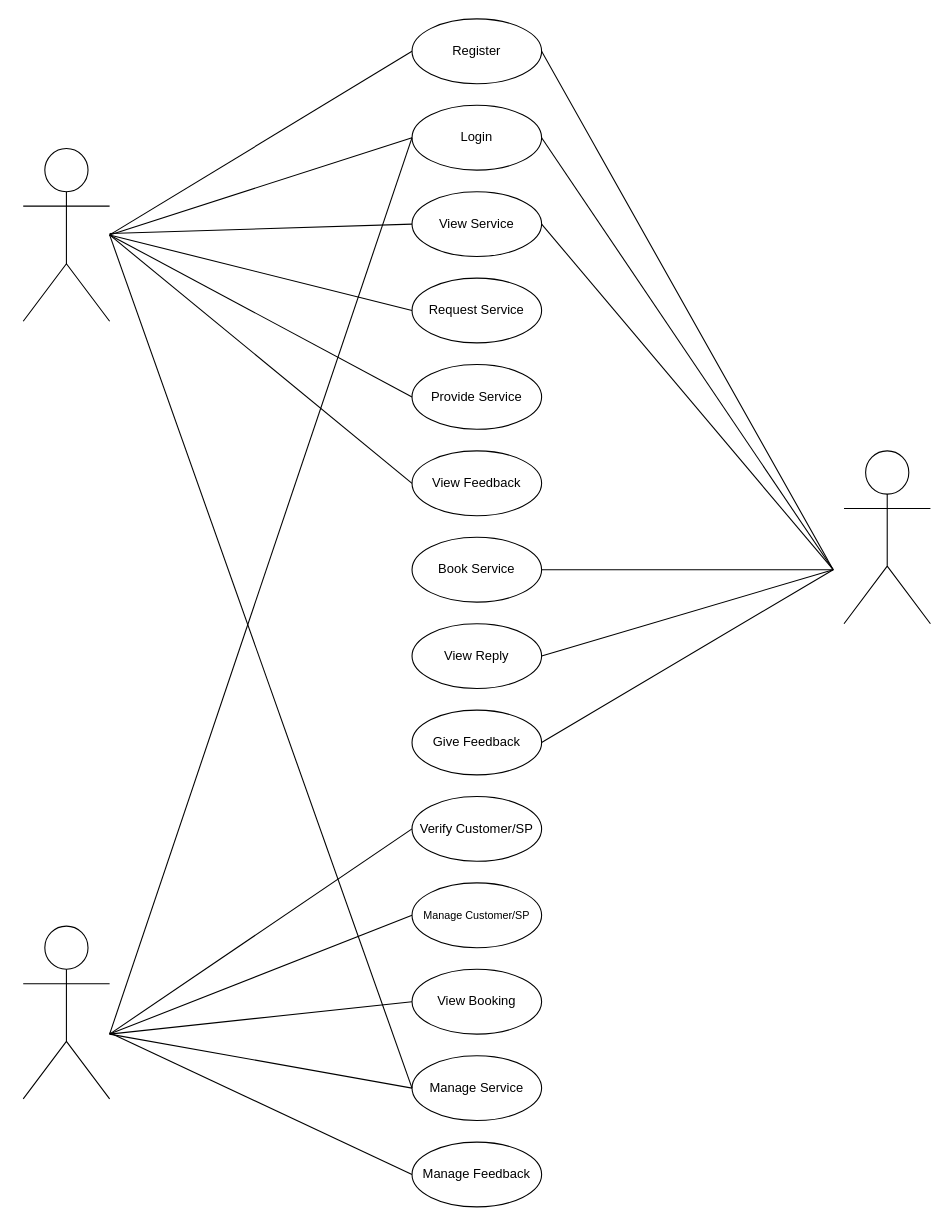
This 949x1226 diagram has some shape labels left out. The box of each missing label's shape, as (x1, y1, x2, y2) in pixels:
Admin: (22, 925, 110, 1099)
Customer: (843, 450, 930, 624)
Service Provider: (22, 147, 110, 321)
